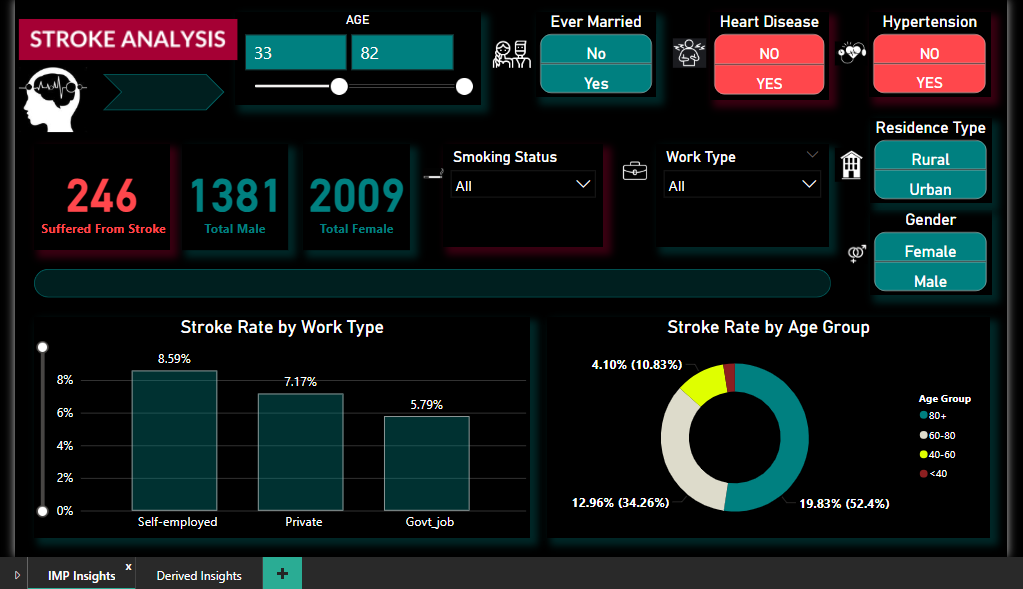

What the dashboard file says about the page in this screenshot:
{"tool":"powerbi","page":{"name":"IMP Insights","canvas":[1280,720],"ordinal":0},"visuals":[{"type":"card","fields":{"Values":["Sum(stroke_analysis health_data.Stroke)"]},"box":[25,186.7,175,136.7],"z":0},{"type":"card","fields":{"Values":["Health Data.Count_Male"]},"box":[215.7,187.1,144.3,135.7],"z":1000},{"type":"card","fields":{"Values":["Health Data.Count_Female"]},"box":[371.7,186.7,138.3,136.7],"z":2000},{"type":"advancedSlicerVisual","fields":{"Values":["Health Data.Gender"]},"box":[1103.3,271.7,156.7,110],"z":3000},{"type":"advancedSlicerVisual","fields":{"Values":["Health Data.Ever Married"]},"box":[671.7,16.7,155,110],"z":4000},{"type":"advancedSlicerVisual","fields":{"Values":["Health Data.Heart Disease"]},"box":[896.7,16.7,153.3,113.3],"z":5000},{"type":"advancedSlicerVisual","fields":{"Values":["Health Data.Residence Type"]},"box":[1103.3,153.3,156.7,110],"z":6000},{"type":"slicer","fields":{"Values":["Health Data.Smoking Status"]},"box":[551.7,186.7,206.7,133.3],"z":7000},{"type":"slicer","fields":{"Values":["Health Data.Work Type"]},"box":[826.7,186.7,223.3,133.3],"z":8000},{"type":"advancedSlicerVisual","fields":{"Values":["Health Data.Hypertension"]},"box":[1101.7,16.7,156.7,110],"z":9000},{"type":"donutChart","fields":{"Category":["Health Data.Age Group"],"Y":["Health Data.Stroke_Rate"]},"box":[686.7,410,571.7,285],"z":10000},{"type":"clusteredColumnChart","fields":{"Category":["Health Data.Work Type"],"Y":["Health Data.Stroke_Rate"]},"box":[24.6,410.6,640.5,284.8],"z":11000},{"type":"slicer","title":"AGE","fields":{"Values":["Health Data.Age"]},"box":[283.3,16.7,316.7,120],"z":12000},{"type":"shape","box":[25,348.3,1028.3,36.7],"z":13000},{"type":"image","box":[611.6,47.7,59.3,47.7],"z":14000},{"type":"image","box":[773.3,181.7,53.3,81.7],"z":15000},{"type":"image","box":[521.7,186.7,36.7,76.7],"z":16000},{"type":"image","box":[0,78.3,98.3,101.7],"z":17000},{"type":"image","box":[843.3,16.7,53.3,106.7],"z":18000},{"type":"image","box":[1053.3,16.7,51.7,106.7],"z":19000},{"type":"image","box":[1053.3,173.3,50,81.7],"z":20000},{"type":"image","box":[1066.7,298.3,38.3,61.7],"z":21000},{"type":"image","box":[0,16.7,291.7,71.7],"z":22000},{"type":"shape","box":[113.3,96.7,156.7,46.7],"z":23000}]}

Visuals, with their boxes on the page's 1280x720 design canvas (x1, y1, x2, y2). These are canvas units, not pixel positions in the 1023x589 screenshot, which may show the page scaled, cropped or inside an application window:
card - Sum(stroke_analysis health_data.Stroke): locate(25, 187, 200, 323)
card - Health Data.Count_Male: locate(216, 187, 360, 323)
card - Health Data.Count_Female: locate(372, 187, 510, 323)
advancedSlicerVisual - Health Data.Gender: locate(1103, 272, 1260, 382)
advancedSlicerVisual - Health Data.Ever Married: locate(672, 17, 827, 127)
advancedSlicerVisual - Health Data.Heart Disease: locate(897, 17, 1050, 130)
advancedSlicerVisual - Health Data.Residence Type: locate(1103, 153, 1260, 263)
slicer - Health Data.Smoking Status: locate(552, 187, 758, 320)
slicer - Health Data.Work Type: locate(827, 187, 1050, 320)
advancedSlicerVisual - Health Data.Hypertension: locate(1102, 17, 1258, 127)
donutChart - Health Data.Age Group x Health Data.Stroke_Rate: locate(687, 410, 1258, 695)
clusteredColumnChart - Health Data.Work Type x Health Data.Stroke_Rate: locate(25, 411, 665, 695)
"AGE" slicer: locate(283, 17, 600, 137)
shape: locate(25, 348, 1053, 385)
image: locate(612, 48, 671, 95)
image: locate(773, 182, 827, 263)
image: locate(522, 187, 558, 263)
image: locate(0, 78, 98, 180)
image: locate(843, 17, 897, 123)
image: locate(1053, 17, 1105, 123)
image: locate(1053, 173, 1103, 255)
image: locate(1067, 298, 1105, 360)
image: locate(0, 17, 292, 88)
shape: locate(113, 97, 270, 143)
